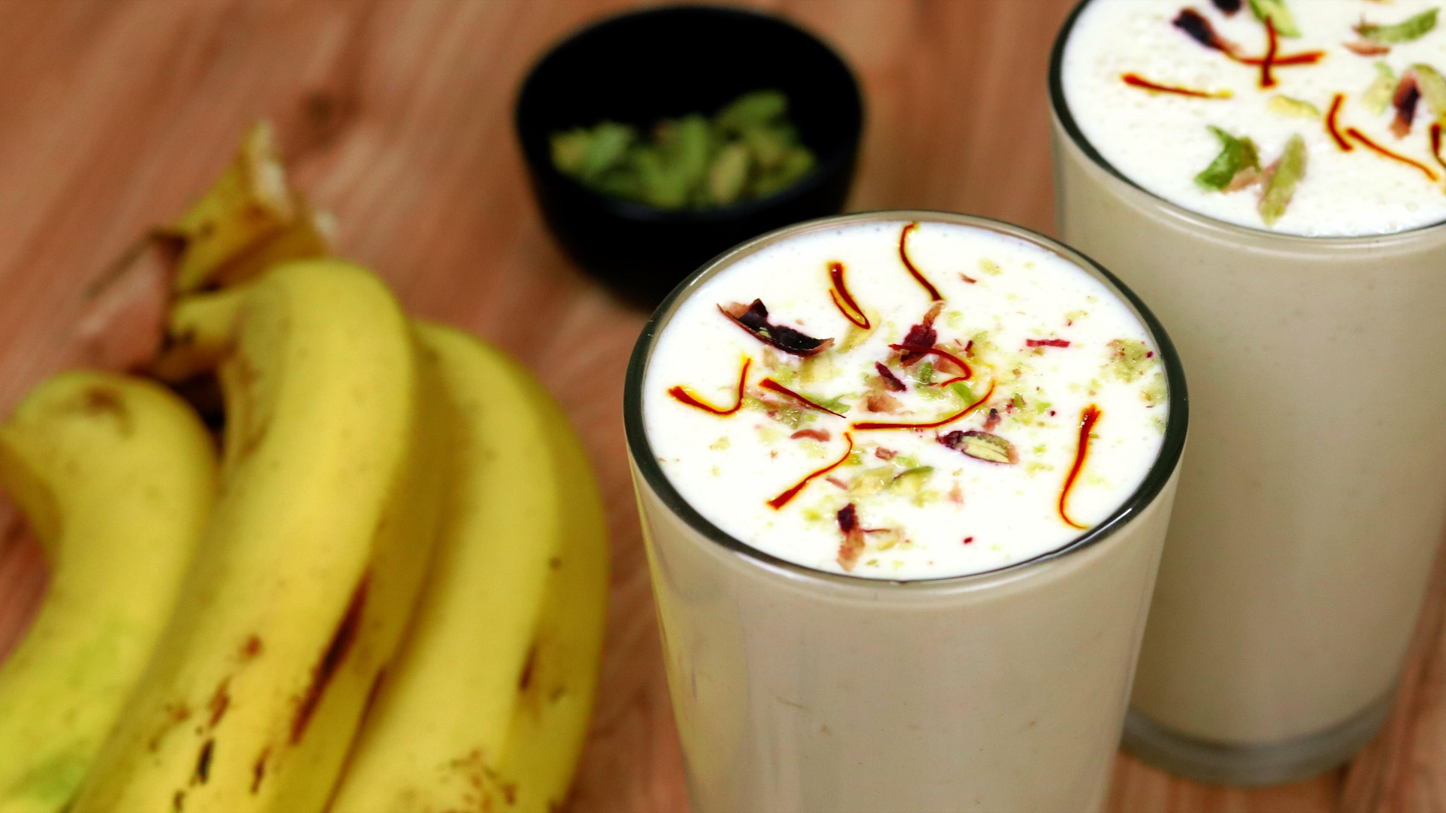Lassi: (633, 216, 1191, 813), (1057, 0, 1443, 742)
